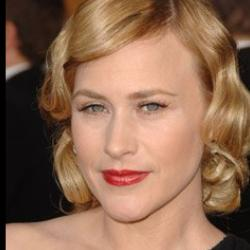face: (36, 4, 249, 231)
